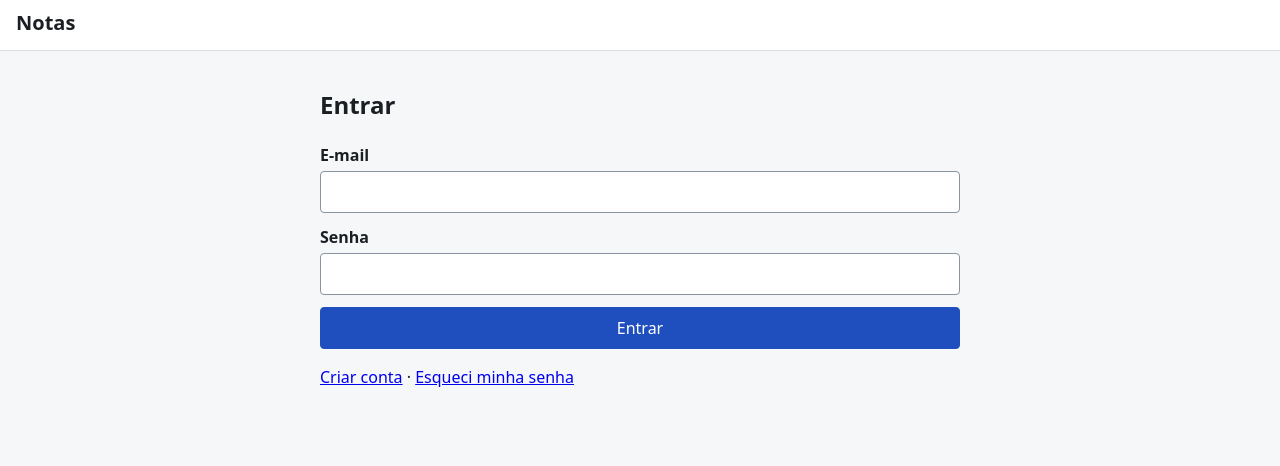
it: login › mostra mensagem genérica para credenciais inválidas
Type "ana@example.com" into the field labelled "E-mail".
click(640, 192); type("ana@example.com")  # box x1=320 y1=171 x2=960 y2=213
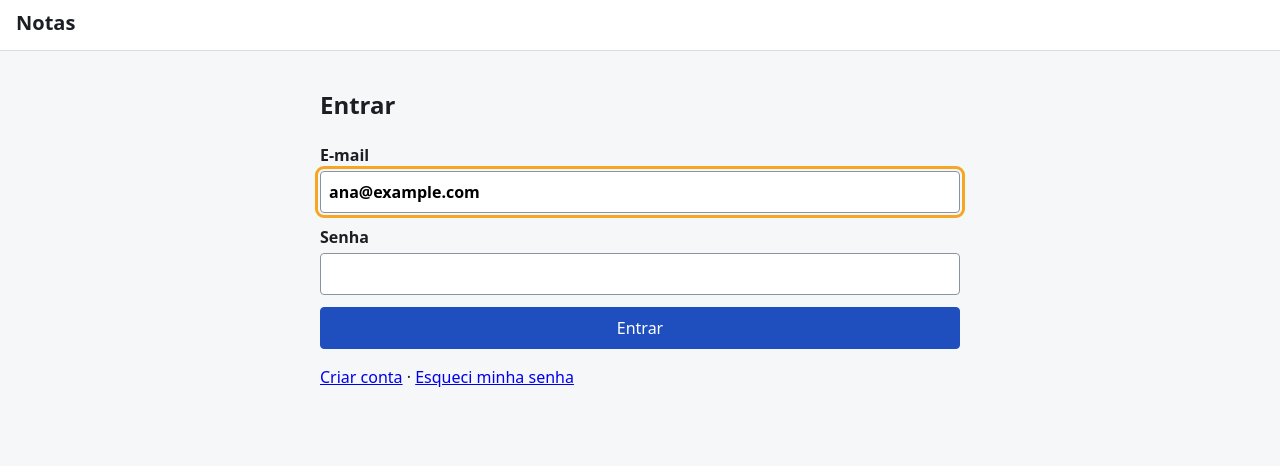
Type "errada" into the password field labelled "Senha".
click(640, 274); type("errada")  # box x1=320 y1=253 x2=960 y2=295
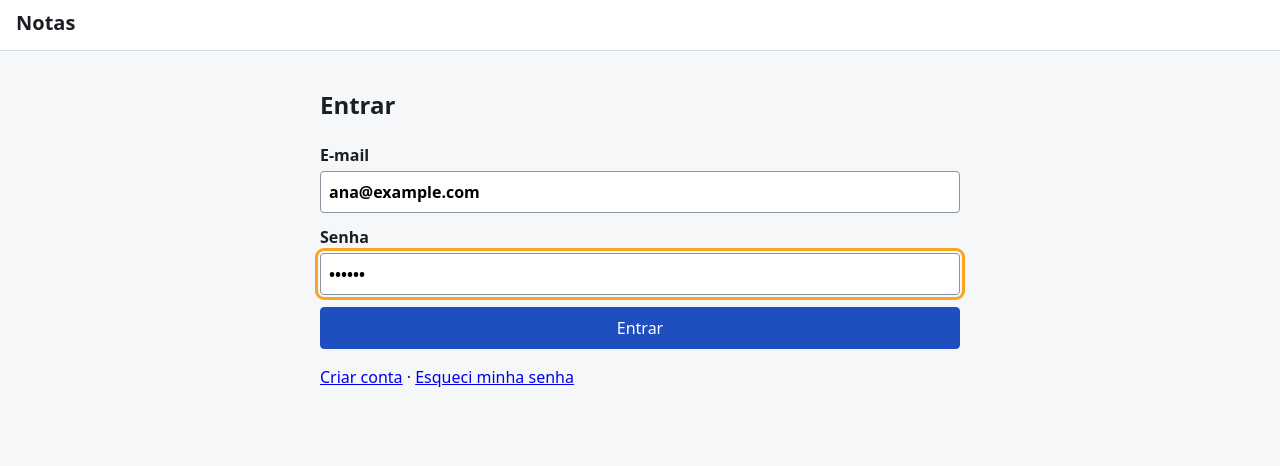
Click the button "Entrar".
click(640, 328)  # box x1=320 y1=307 x2=960 y2=349
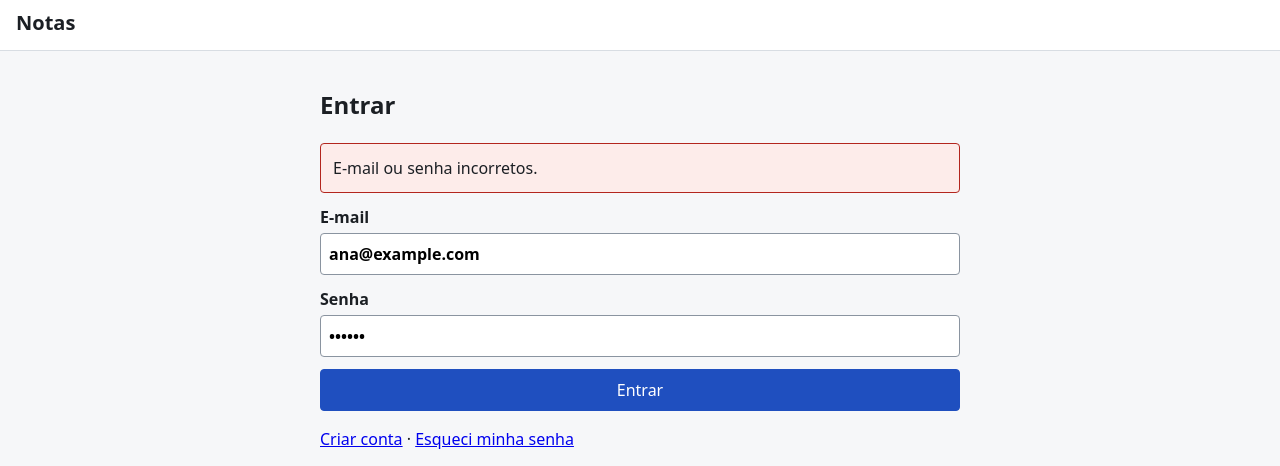
Check: the message does not show "Invalid", box x1=320 y1=143 x2=960 y2=193
Check: the message reads "E-mail ou senha incorretos.", box x1=333 y1=157 x2=537 y2=179
